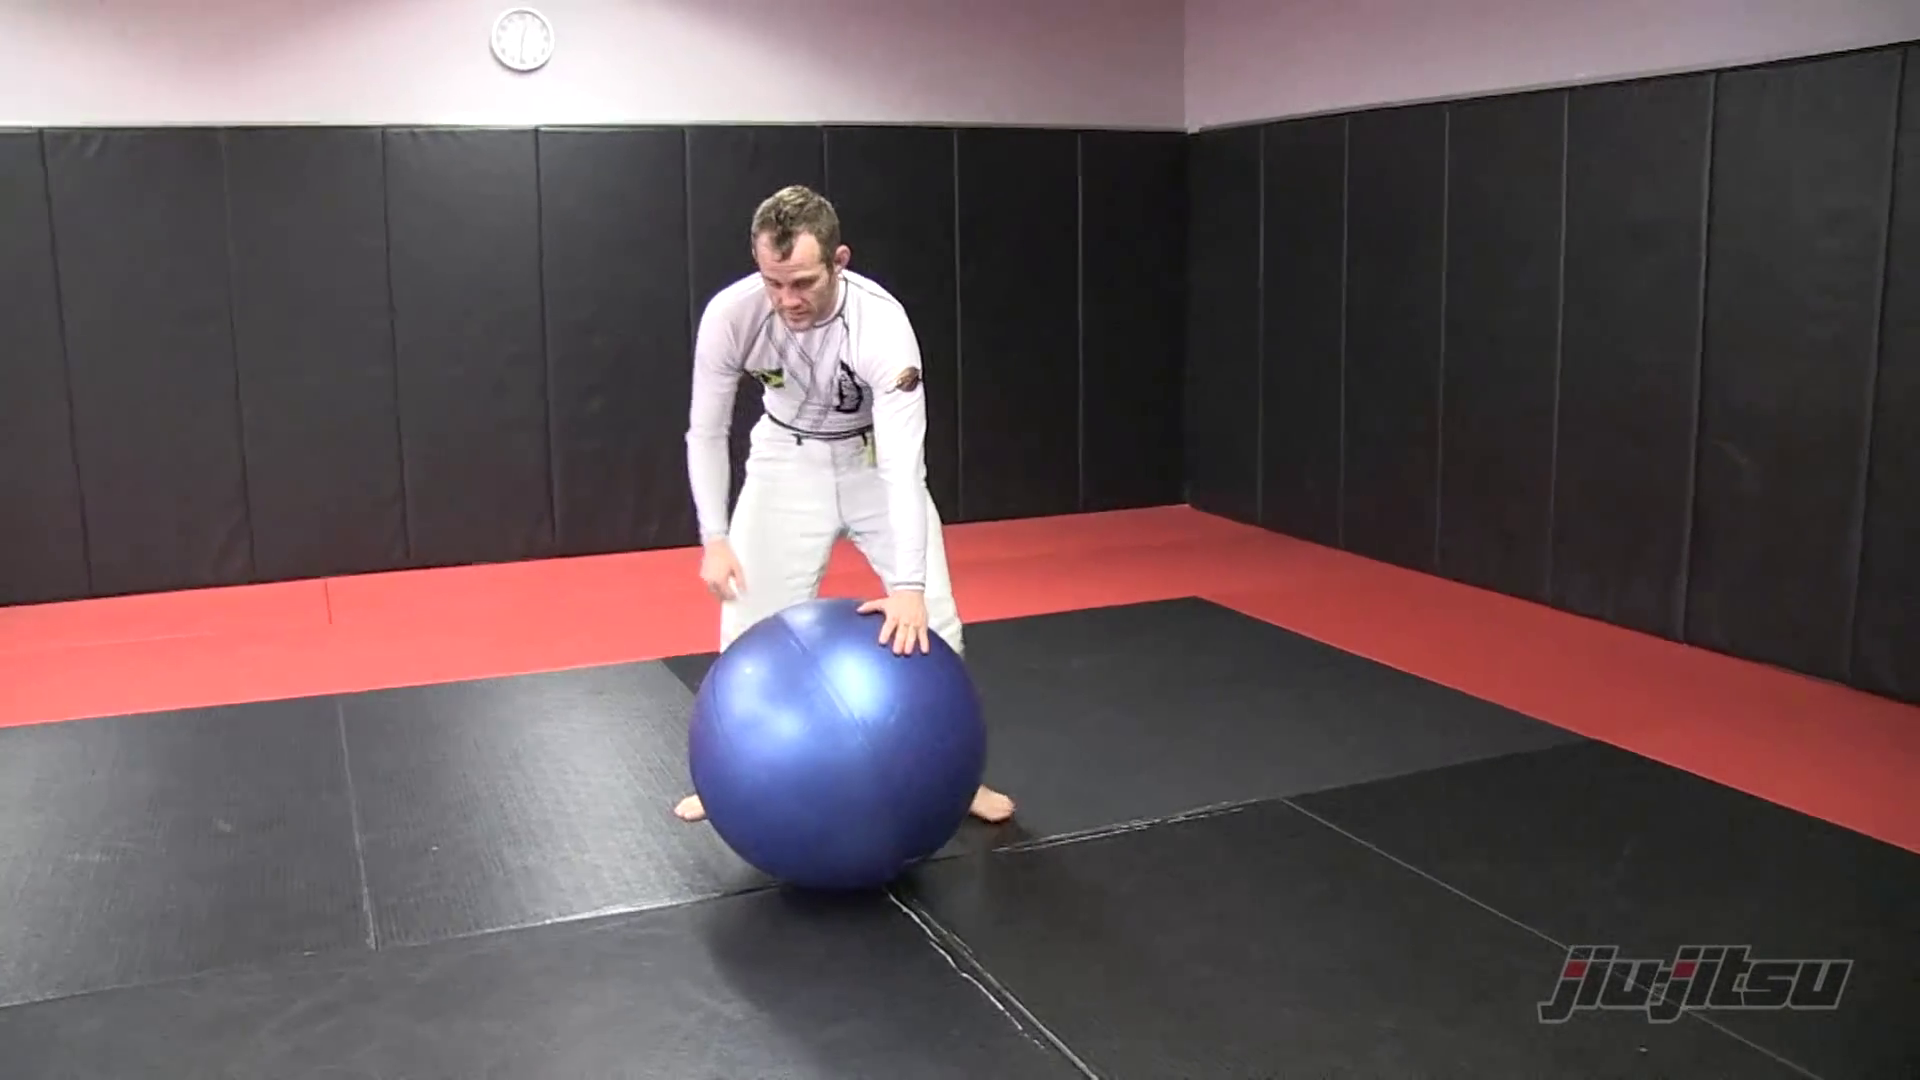yogaball: (670, 589, 989, 911)
